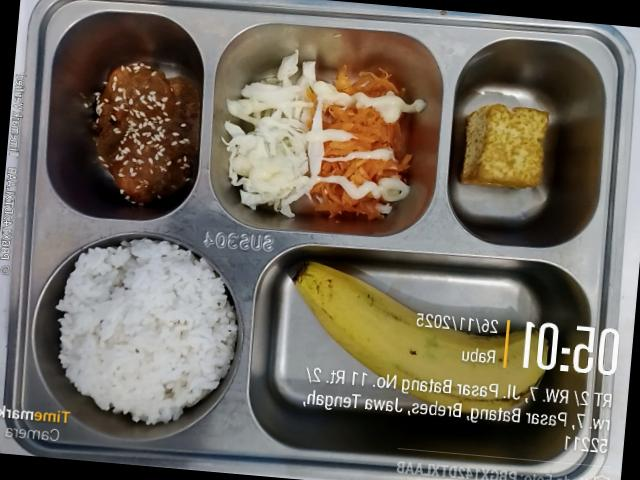ayam: (94, 63, 200, 204)
buah: (294, 261, 550, 416)
nasi: (56, 238, 237, 424)
sayur: (223, 51, 426, 219)
tahu: (460, 103, 548, 188)
